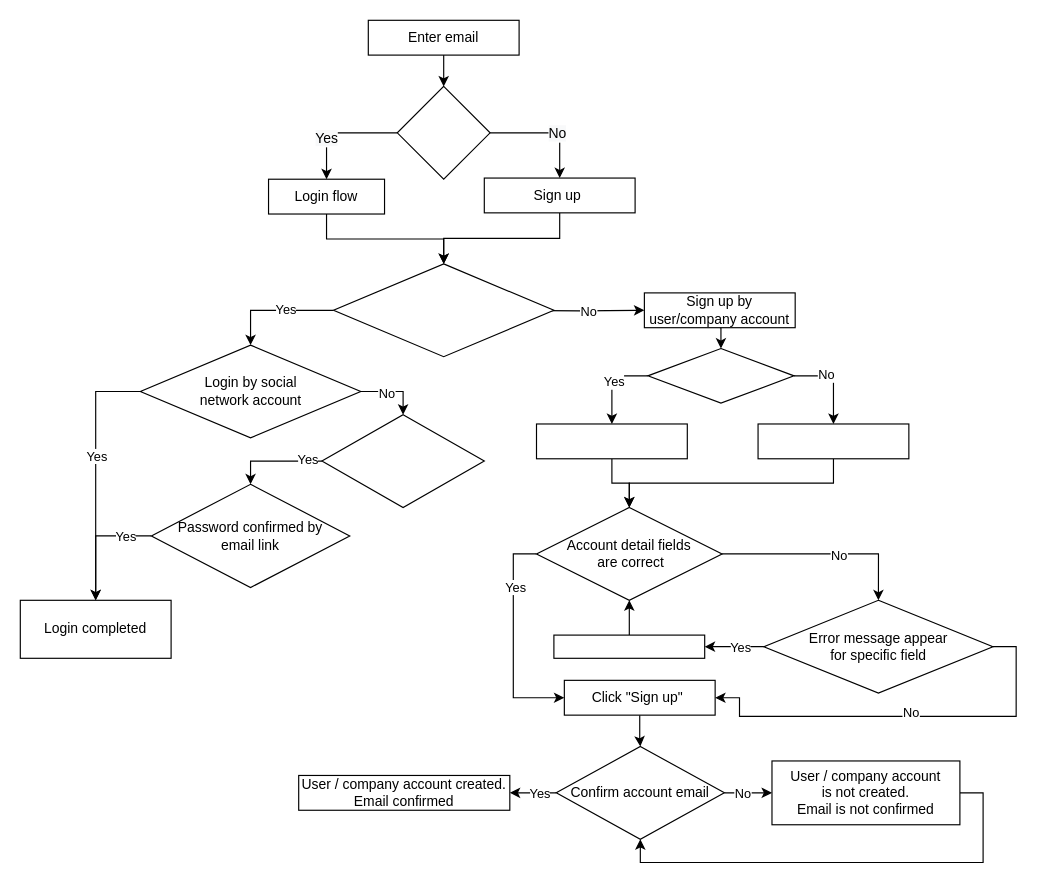
Image size: 1046x892. Some labels were removed from this diagram. The centre of each missing label's shape, as x and y in pixels:
"Company account" goes at [720,375].
"Correct the information" goes at [629,646].
"Email exist" goes at [443,132].
"Enter company account information" goes at [611,441].
"Enter user account information" goes at [833,441].
"Set a password for account" goes at [402,460].
"Social network account exist in WeTravel DB" goes at [443,310].
